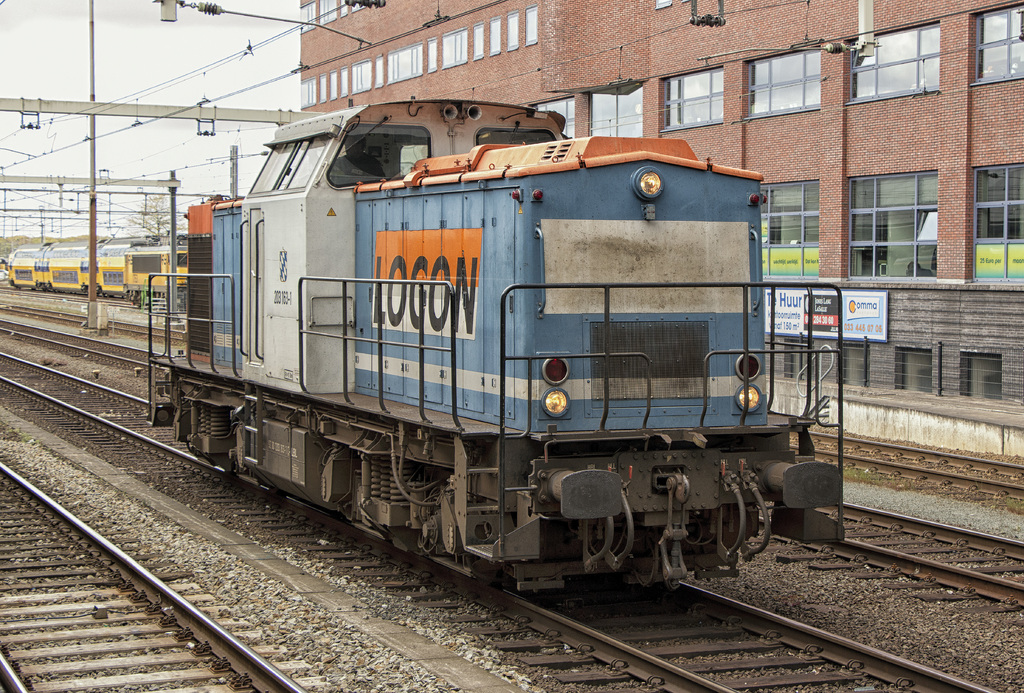train: (136, 100, 838, 596)
